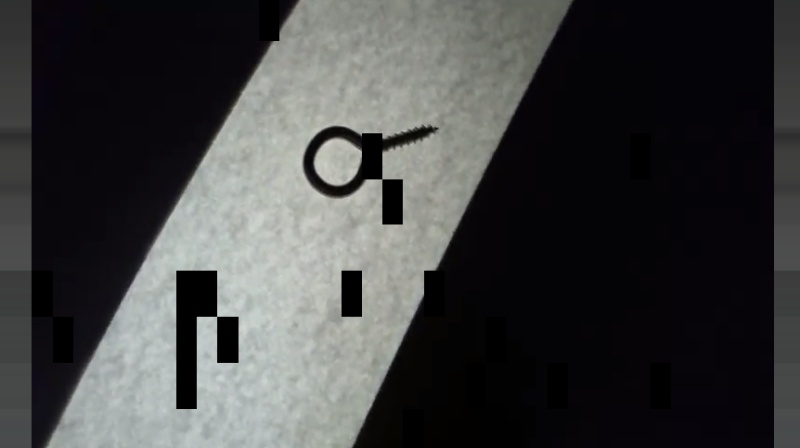O001: (299, 122, 441, 198)
